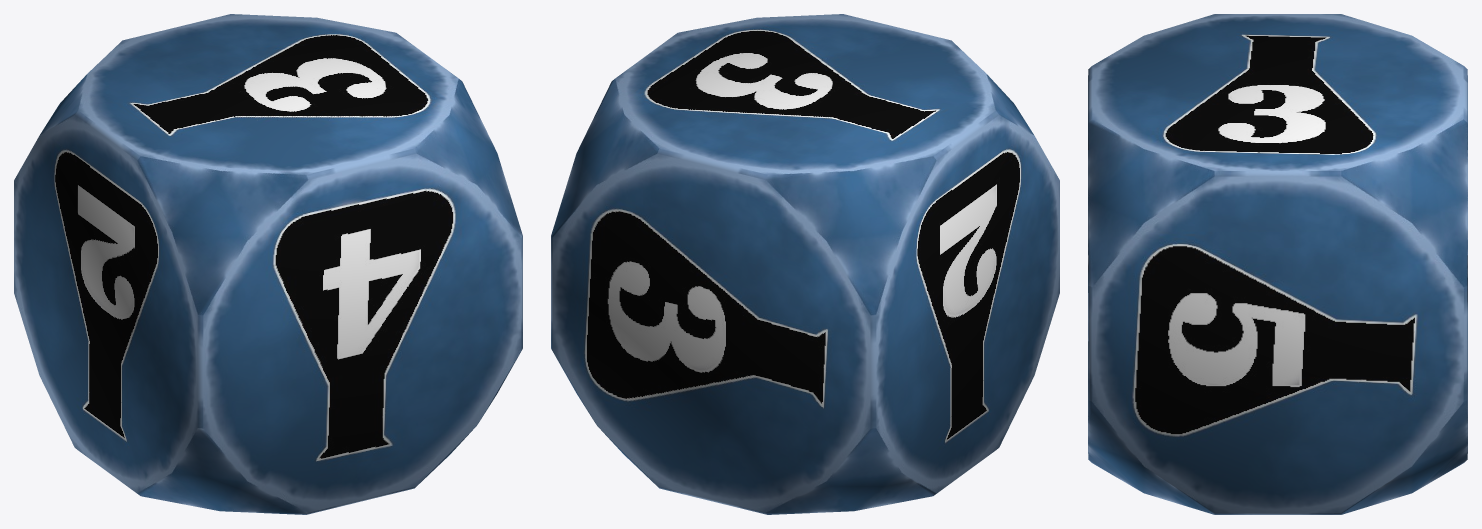
Rendered from elixir_dice.gltf.
3 renders of one model, left to right at view 1: azimuth 30°, elevation 25°; view 2: azimuth 150°, elevation 25°; view 3: azimuth 270°, elevation 25°, orthographic.
Parts seen in each view (by area): view 1: d6_geo; view 2: d6_geo; view 3: d6_geo.
Boxes of the visible parts, left/top/right/bottom form: d6_geo: left=14, top=14, right=522, bottom=514; d6_geo: left=551, top=14, right=1059, bottom=514; d6_geo: left=1088, top=14, right=1467, bottom=514.
Size of the model in its own units: 104 by 104 by 104.
Materials: 1 (1 with a texture image).
